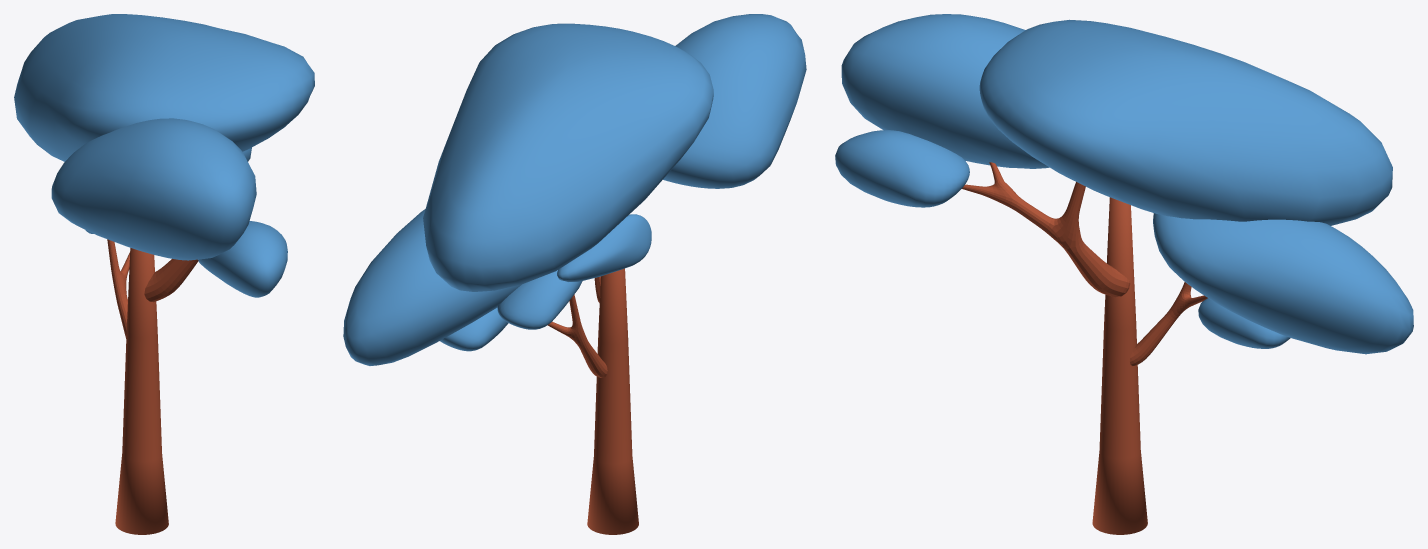
The model's file is tree_1.fbx.
3 renders of one model, left to right at view 1: azimuth 30°, elevation 25°; view 2: azimuth 150°, elevation 25°; view 3: azimuth 270°, elevation 25°, orthographic. The views are drawn at different scales.
Parts seen in each view (by area): view 1: Sphere.004, Sphere, Cylinder, Sphere.003, Cylinder.001; view 2: Sphere.004, Sphere, Sphere.001, Cylinder, Sphere.006, Sphere.005, Sphere.002, Cylinder.001; view 3: Sphere.004, Sphere.001, Sphere, Cylinder, Sphere.003, Cylinder.001, Sphere.002.
Boxes of the visible parts, x1=… form: Sphere.004: x1=14, y1=14, x2=314, y2=161; Sphere: x1=51, y1=118, x2=256, y2=260; Cylinder: x1=115, y1=248, x2=168, y2=534; Sphere.003: x1=198, y1=221, x2=287, y2=297; Cylinder.001: x1=107, y1=239, x2=198, y2=338; Sphere.004: x1=423, y1=23, x2=713, y2=291; Sphere: x1=663, y1=14, x2=806, y2=188; Sphere.001: x1=343, y1=209, x2=521, y2=365; Cylinder: x1=587, y1=268, x2=638, y2=534; Sphere.006: x1=557, y1=214, x2=651, y2=281; Sphere.005: x1=497, y1=270, x2=582, y2=329; Sphere.002: x1=440, y1=308, x2=508, y2=351; Cylinder.001: x1=547, y1=276, x2=607, y2=377; Sphere.004: x1=979, y1=19, x2=1392, y2=225; Sphere.001: x1=1153, y1=213, x2=1413, y2=354; Sphere: x1=841, y1=14, x2=1049, y2=168; Cylinder: x1=1092, y1=197, x2=1147, y2=534; Sphere.003: x1=835, y1=130, x2=969, y2=207; Cylinder.001: x1=962, y1=162, x2=1207, y2=365; Sphere.002: x1=1198, y1=298, x2=1290, y2=348.
Bounding box in the file's own units: 1618 × 2637 × 2801.
